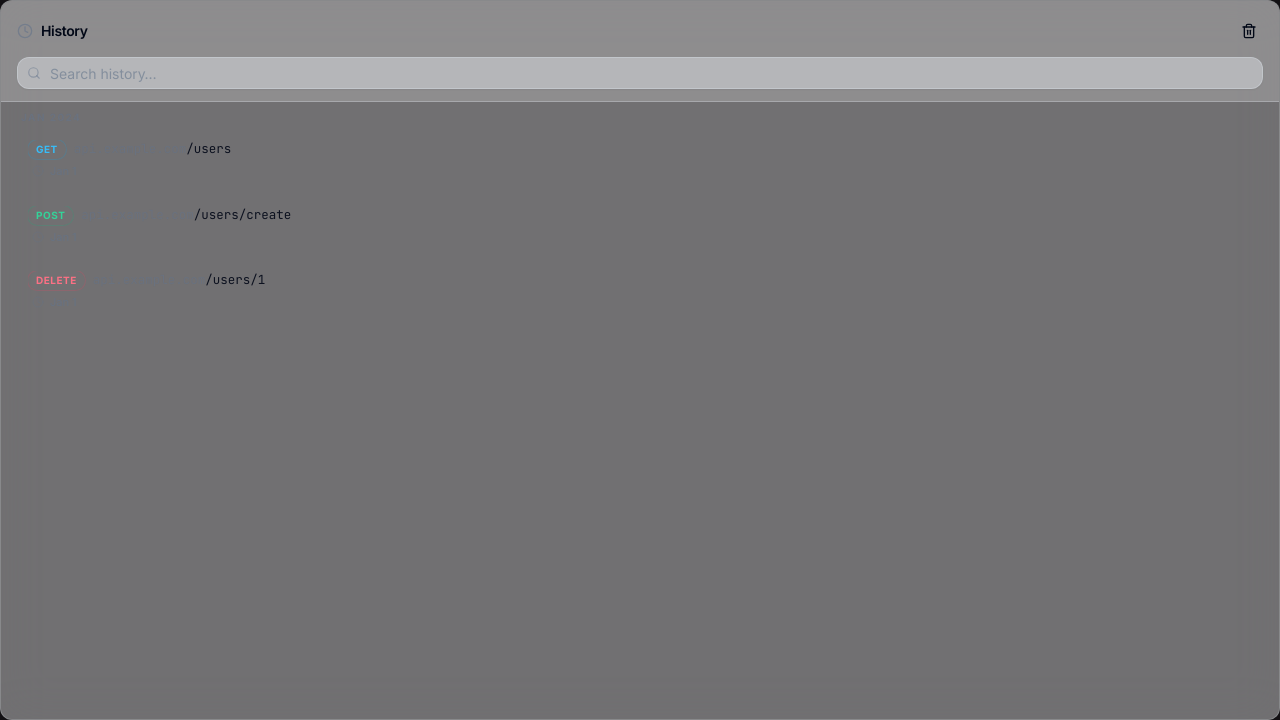
Test: HistoryPanel › shows "No matching requests found" when search has no results
Type "nonexistent" into the field with placeholder "Search history…" at (640, 73), box [17,57,1263,89]
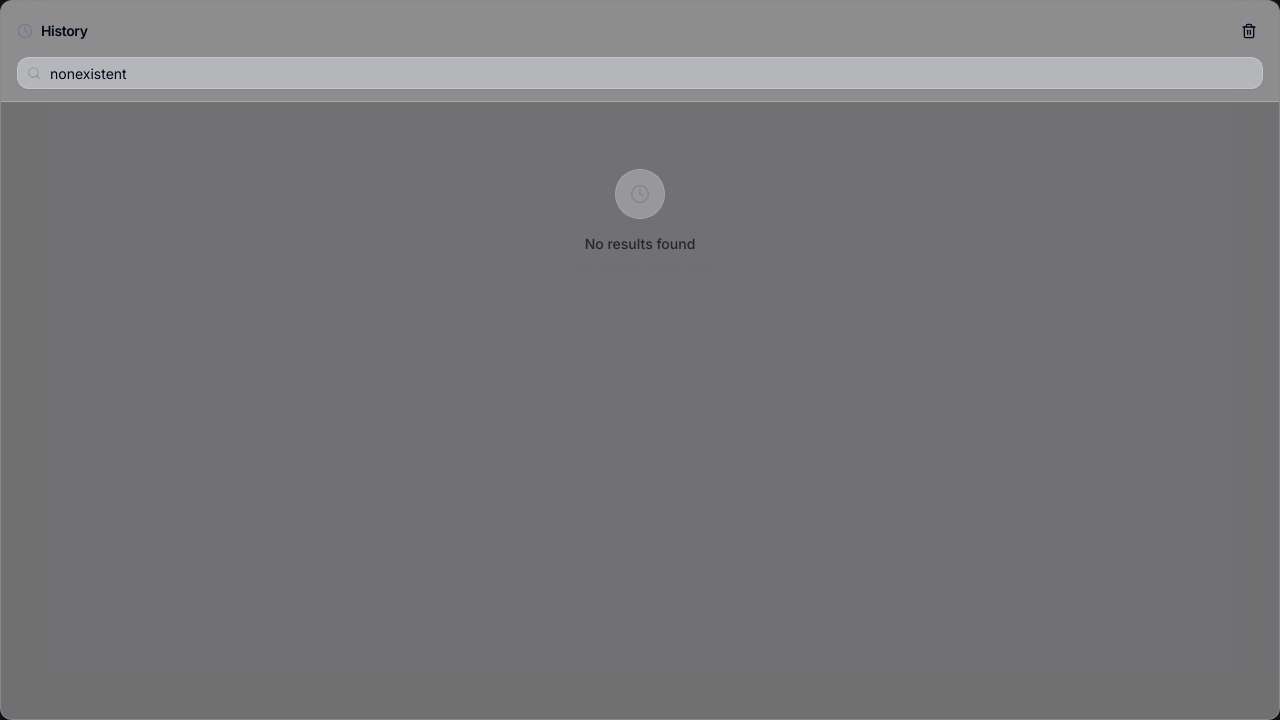
Check: the text "No results found" is shown, box [585,234,695,254]
